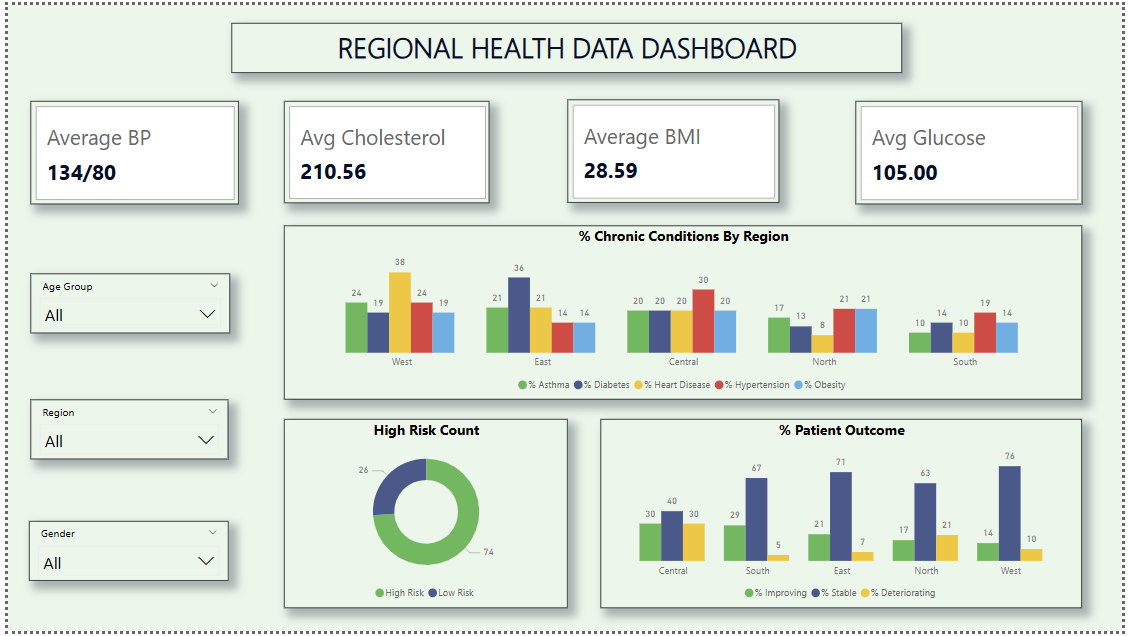

The dashboard page shown, as its layout file describes it:
{"tool":"powerbi","page":{"name":"Page 1","canvas":[1280,720],"ordinal":0},"visuals":[{"type":"cardVisual","fields":{"Data":["health_dataset.Average BMI"]},"box":[643.1,108.6,243.1,119],"z":0},{"type":"cardVisual","fields":{"Data":["health_dataset.Average BP"]},"box":[25.9,110.3,239.7,119],"z":1000},{"type":"cardVisual","fields":{"Data":["health_dataset.Avg Cholesterol"]},"box":[317.2,110.3,236.2,117.2],"z":2000},{"type":"cardVisual","fields":{"Data":["health_dataset.Avg Glucose"]},"box":[974.1,110.3,260.3,119],"z":3000},{"type":"slicer","fields":{"Values":["health_dataset.Region"]},"box":[25.9,453.4,227.6,69],"z":4000},{"type":"textbox","box":[257.4,20.2,770.8,57.4],"z":5000},{"type":"clusteredColumnChart","title":"% Patient Outcome ","fields":{"Category":["health_dataset.Region"],"Y":["health_dataset.% Improving","health_dataset.% Stable","health_dataset.% Deteriorating"]},"box":[681,475.9,553.4,217.2],"z":6000},{"type":"clusteredColumnChart","title":"% Chronic Conditions By Region","fields":{"Category":["health_dataset.Region"],"Y":["health_dataset.% Asthma","health_dataset.% Diabetes","health_dataset.% Heart Disease","health_dataset.% Diabetes","health_dataset.% Heart Disease","health_dataset.% Hypertension","health_dataset.% Obesity"]},"box":[317.2,253.4,917.2,200],"z":7000},{"type":"slicer","fields":{"Values":["health_dataset.Age Group"]},"box":[25.9,308.6,229.3,69],"z":8000},{"type":"slicer","fields":{"Values":["health_dataset.Gender"]},"box":[24.1,593.1,229.3,69],"z":9000},{"type":"donutChart","title":"High Risk Count","fields":{"Category":["health_dataset.HighRiskFlag"],"Y":["CountNonNull(health_dataset.HighRiskFlag)"]},"box":[317.2,475.9,325.9,217.2],"z":10000}]}

Visuals, with their boxes in screenshot pixels (x1, y1, x2, y2), scaled from the page's 1280x720 canvas onto the 1128x636 screenshot:
cardVisual - health_dataset.Average BMI: x1=567, y1=96, x2=781, y2=201
cardVisual - health_dataset.Average BP: x1=23, y1=97, x2=234, y2=203
cardVisual - health_dataset.Avg Cholesterol: x1=280, y1=97, x2=488, y2=201
cardVisual - health_dataset.Avg Glucose: x1=858, y1=97, x2=1088, y2=203
slicer - health_dataset.Region: x1=23, y1=401, x2=223, y2=461
textbox: x1=227, y1=18, x2=906, y2=69
"% Patient Outcome " clusteredColumnChart: x1=600, y1=420, x2=1088, y2=612
"% Chronic Conditions By Region" clusteredColumnChart: x1=280, y1=224, x2=1088, y2=401
slicer - health_dataset.Age Group: x1=23, y1=273, x2=225, y2=334
slicer - health_dataset.Gender: x1=21, y1=524, x2=223, y2=585
"High Risk Count" donutChart: x1=280, y1=420, x2=567, y2=612
